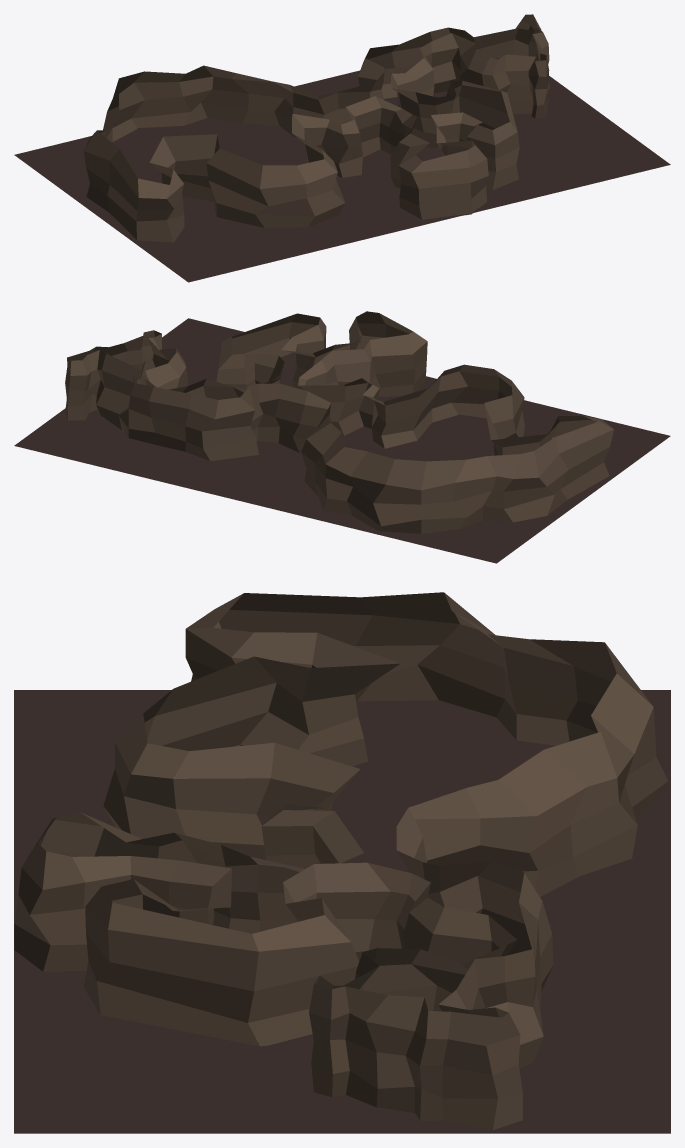
Rendered from map.glb.
3 views of the same model, one above another, from view 1: azimuth 30°, elevation 25°; view 2: azimuth 150°, elevation 25°; view 3: azimuth 270°, elevation 25° (orthographic). The views are drawn at different scales.
Parts seen in each view (by area): view 1: Walls, Ground; view 2: Walls, Ground; view 3: Walls, Ground.
Part boxes in pixels (x1=…): Walls: x1=83, y1=14, x2=549, y2=242; Ground: x1=14, y1=70, x2=670, y2=282; Walls: x1=65, y1=311, x2=613, y2=533; Ground: x1=14, y1=318, x2=670, y2=563; Walls: x1=14, y1=592, x2=668, y2=1129; Ground: x1=14, y1=690, x2=670, y2=1133.
Bounding box in the file's own units: 172 × 23.58 × 108.
